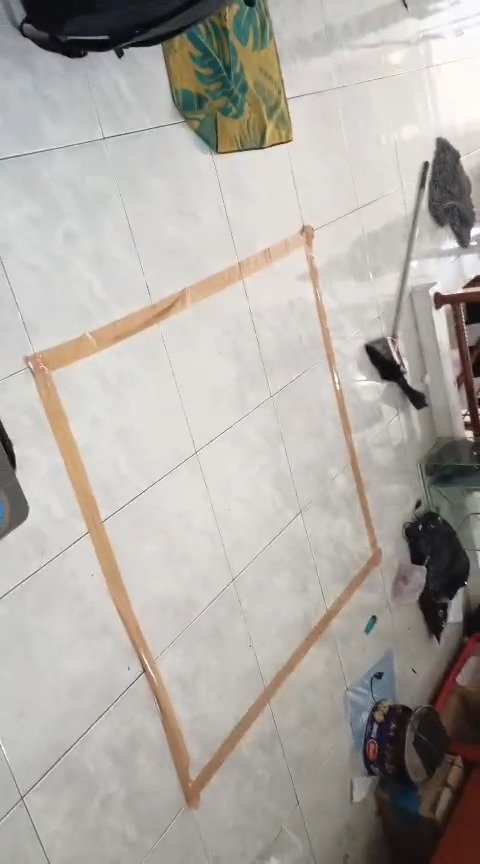floor marking: (26, 226, 311, 805), (319, 297, 379, 619), (262, 612, 329, 704)
